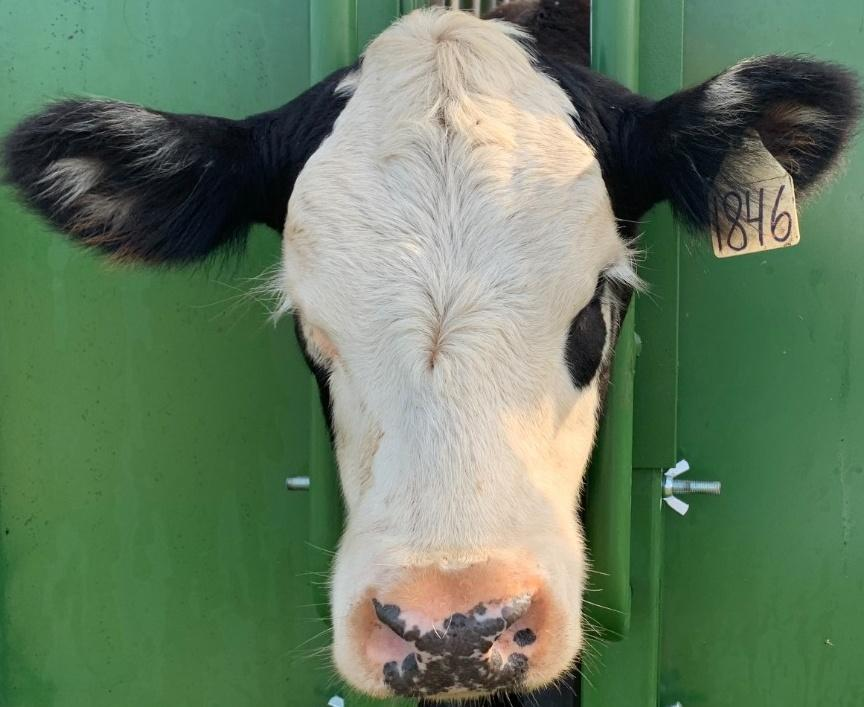muzzles: (318, 545, 593, 702)
